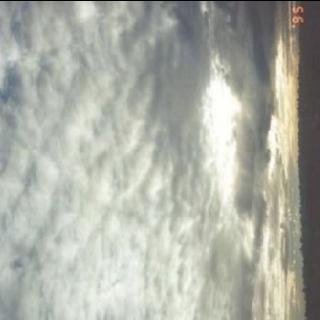Stratocumulus: (0, 0, 293, 320)
